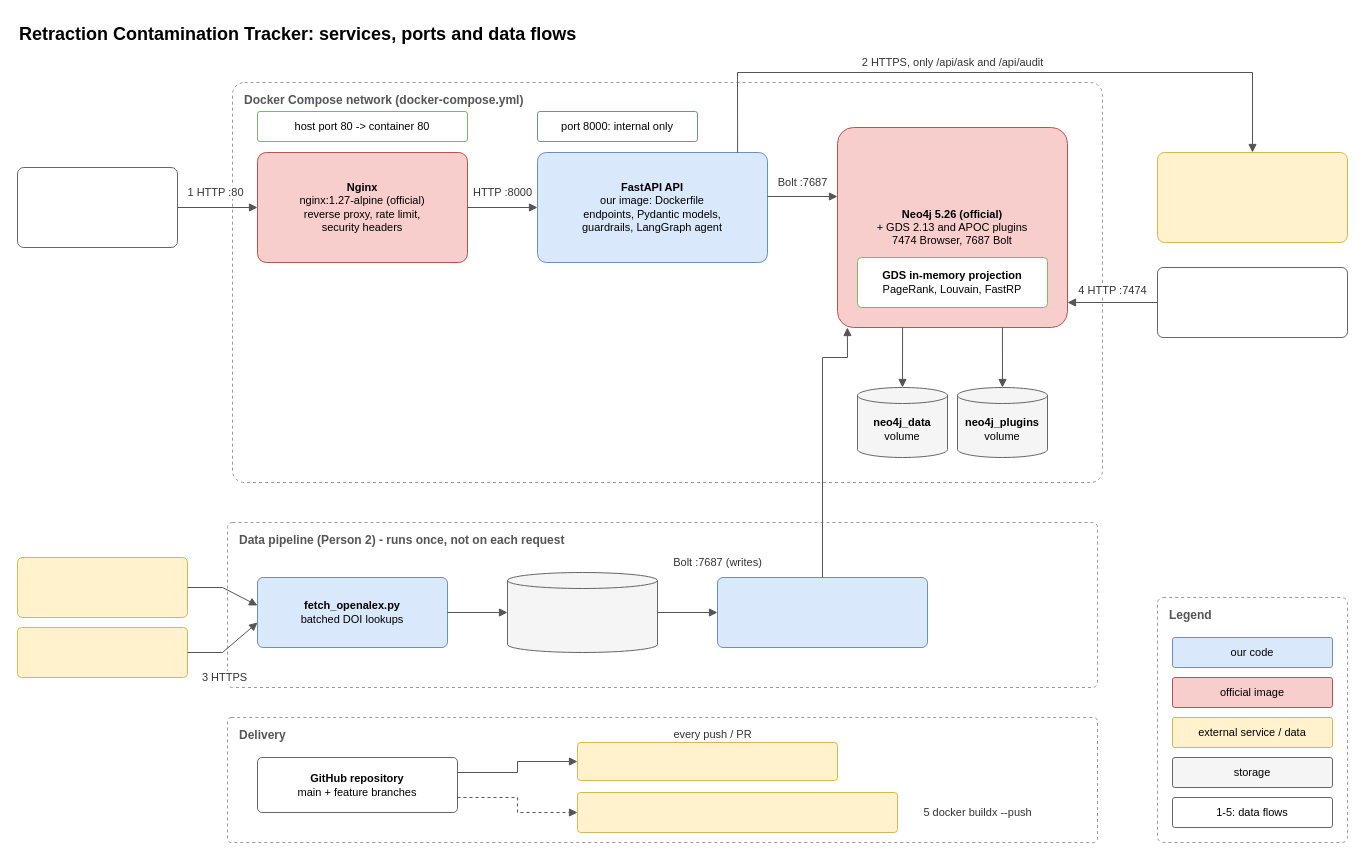
This 1365x860 diagram has some shape labels left out. Each missing label, with the centre of its shape:
data/cache/ raw JSON, committed: the point at 582,612
Developer Neo4j Browser: the point at 1252,302
Docker Hub image charlottelebihan/retraction-tracker-api: the point at 737,812
GitHub Actions lint + tests with own Neo4j: the point at 707,761
ingest.py constraints, indexes, UNWIND: the point at 822,612
LLM provider API key or Ollama (Person 3): the point at 1252,197
OpenAlex API: the point at 102,652
Retraction Watch CSV (via Crossref): the point at 102,587
User browser, Swagger, curl: the point at 97,207
